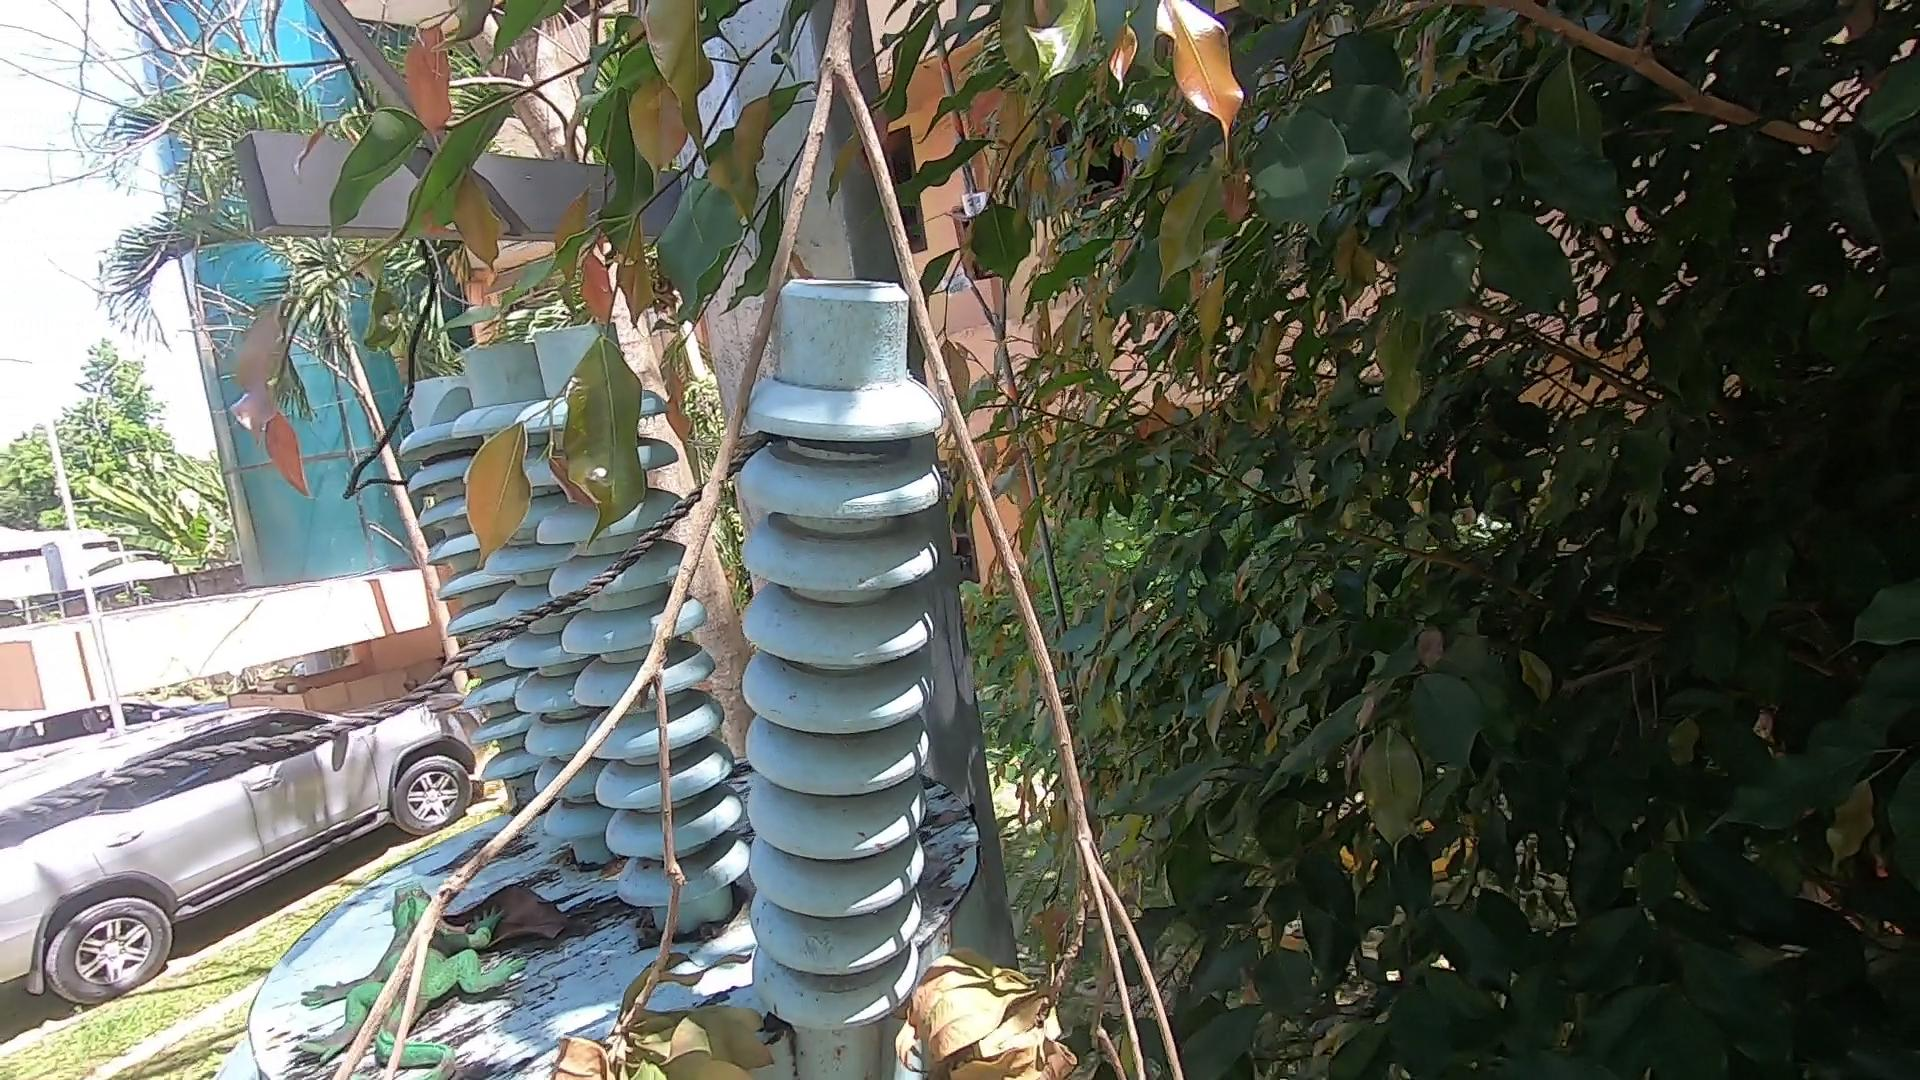branch with leaves: (327, 1, 1193, 1069)
leaf: (452, 886, 583, 957)
